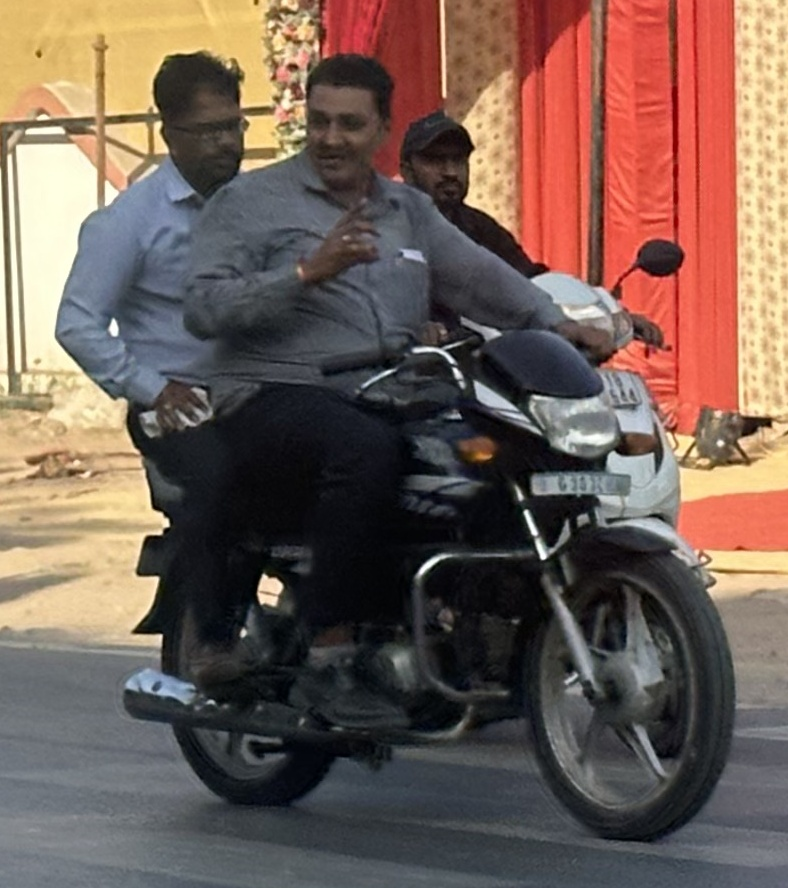BikeWithRider: (41, 37, 751, 853), (379, 77, 728, 617)
NoHelmet: (138, 43, 261, 192), (287, 45, 406, 187), (388, 104, 489, 218)
